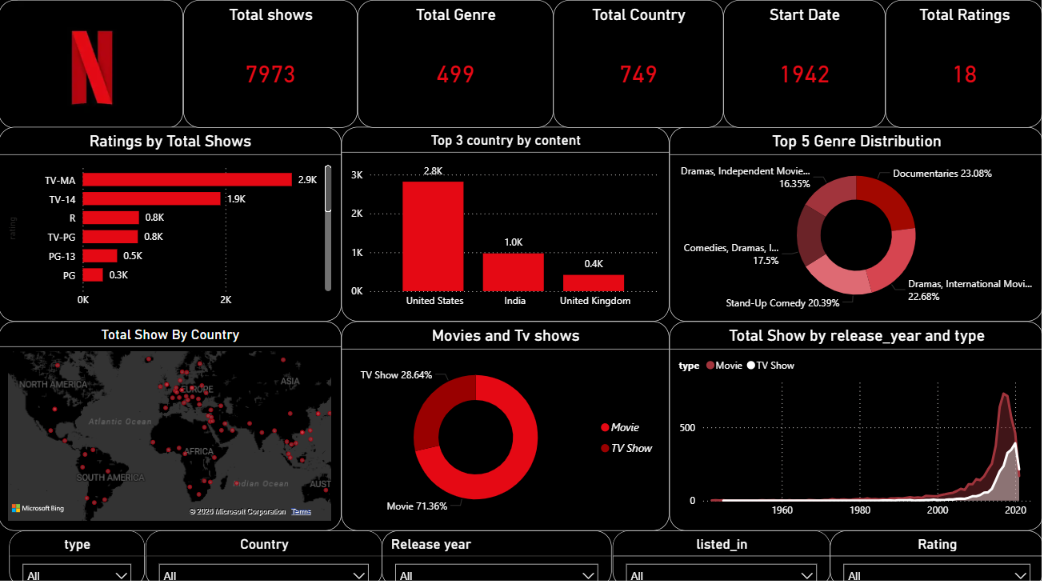

What the dashboard file says about the page in this screenshot:
{"tool":"powerbi","page":{"name":"SUMMARY","canvas":[1280,720],"ordinal":3},"visuals":[{"type":"map","title":"Total Show By Country","fields":{"Category":["netflix_titles.country"]},"box":[0,393.3,420,256.7],"z":0},{"type":"image","title":"Movies & TV Show","box":[0,0,226.5,157.1],"z":1000},{"type":"areaChart","title":"Total Show by release_year and type","fields":{"Category":["netflix_titles.release_year"],"Y":["Count(netflix_titles.show_id)"],"Series":["netflix_titles.type"]},"box":[821.7,393.3,458.3,256.7],"z":2000},{"type":"clusteredBarChart","title":"Ratings by Total Shows","fields":{"Category":["netflix_titles.rating"],"Y":["CountNonNull(netflix_titles.show_id)"]},"box":[0,156,420,238],"z":3000},{"type":"clusteredColumnChart","title":"Top 3 country by content","fields":{"Category":["netflix_titles.country"],"Y":["CountNonNull(netflix_titles.show_id)"]},"box":[420,156,402,238],"z":4000},{"type":"donutChart","title":"Top 5 Genre Distribution","fields":{"Category":["netflix_titles.listed_in"],"Y":["CountNonNull(netflix_titles.show_id)"]},"box":[822,156,458,238],"z":5000},{"type":"card","title":"Total shows","fields":{"Values":["CountNonNull(netflix_titles.title)"]},"box":[226.7,0,213.3,156.7],"z":6000},{"type":"card","title":"Total Country","fields":{"Values":["Count(netflix_titles.country)"]},"box":[680,0,208.3,156.7],"z":7000},{"type":"card","title":"Start Date","fields":{"Values":["Min(netflix_titles.release_year)"]},"box":[888.3,0,198.3,156.7],"z":8000},{"type":"card","title":"Total Ratings","fields":{"Values":["Count(netflix_titles.rating)"]},"box":[1086.7,0,193.3,156.7],"z":9000},{"type":"card","title":"Total Genre","fields":{"Values":["Count(netflix_titles.listed_in)"]},"box":[440,0,240,156.7],"z":10000},{"type":"donutChart","title":"Movies and Tv shows","fields":{"Category":["netflix_titles.type"],"Y":["CountNonNull(netflix_titles.show_id)"]},"box":[420,393.3,401.7,256.7],"z":11000},{"type":"slicer","title":"type","fields":{"Values":["netflix_titles.type"]},"box":[14,650,166,70],"z":12000},{"type":"slicer","title":"Release year","fields":{"Values":["netflix_titles.release_year"]},"box":[470,650,281.7,70],"z":13000},{"type":"slicer","title":"listed_in","fields":{"Values":["netflix_titles.listed_in"]},"box":[751.7,650,266.7,70],"z":14000},{"type":"slicer","title":"Country","fields":{"Values":["netflix_titles.country"]},"box":[180,650,290,70],"z":15000},{"type":"slicer","title":"Rating","fields":{"Values":["netflix_titles.rating"]},"box":[1018,650,262,70],"z":16000}]}

Visuals, with their boxes in screenshot pixels (x1, y1, x2, y2), scaled from the page's 1280x720 canvas onto the 1042x581 screenshot:
"Total Show By Country" map: l=0, t=317, r=342, b=525
"Movies & TV Show" image: l=0, t=0, r=184, b=127
"Total Show by release_year and type" areaChart: l=669, t=317, r=1041, b=525
"Ratings by Total Shows" clusteredBarChart: l=0, t=126, r=342, b=318
"Top 3 country by content" clusteredColumnChart: l=342, t=126, r=669, b=318
"Top 5 Genre Distribution" donutChart: l=669, t=126, r=1041, b=318
"Total shows" card: l=185, t=0, r=358, b=126
"Total Country" card: l=554, t=0, r=723, b=126
"Start Date" card: l=723, t=0, r=885, b=126
"Total Ratings" card: l=885, t=0, r=1041, b=126
"Total Genre" card: l=358, t=0, r=554, b=126
"Movies and Tv shows" donutChart: l=342, t=317, r=669, b=525
"type" slicer: l=11, t=525, r=147, b=580
"Release year" slicer: l=383, t=525, r=612, b=580
"listed_in" slicer: l=612, t=525, r=829, b=580
"Country" slicer: l=147, t=525, r=383, b=580
"Rating" slicer: l=829, t=525, r=1041, b=580
